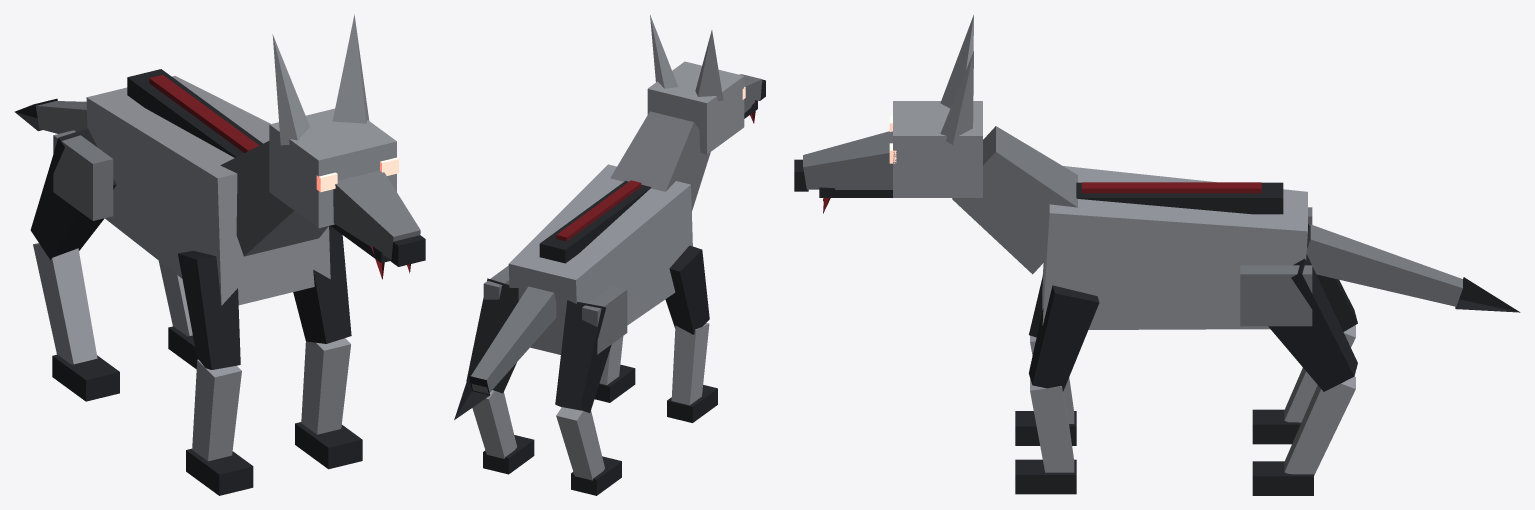
File: scout.glb
The picture shows the model from 3 angles, left to right: view 1: azimuth 30°, elevation 25°; view 2: azimuth 150°, elevation 25°; view 3: azimuth 270°, elevation 25°; orthographic projection. The views are drawn at different scales.
Visible parts, largest first — view 1: DScoutHull, DScoutGlow; view 2: DScoutHull; view 3: DScoutHull.
Part boxes in pixels (x1=…): DScoutHull: x1=14, y1=14, x2=425, y2=495; DScoutGlow: x1=316, y1=157, x2=398, y2=192; DScoutHull: x1=454, y1=15, x2=765, y2=495; DScoutHull: x1=794, y1=15, x2=1520, y2=495.
Size of the model in its own units: 0.4462 by 1.32 by 2.02.
